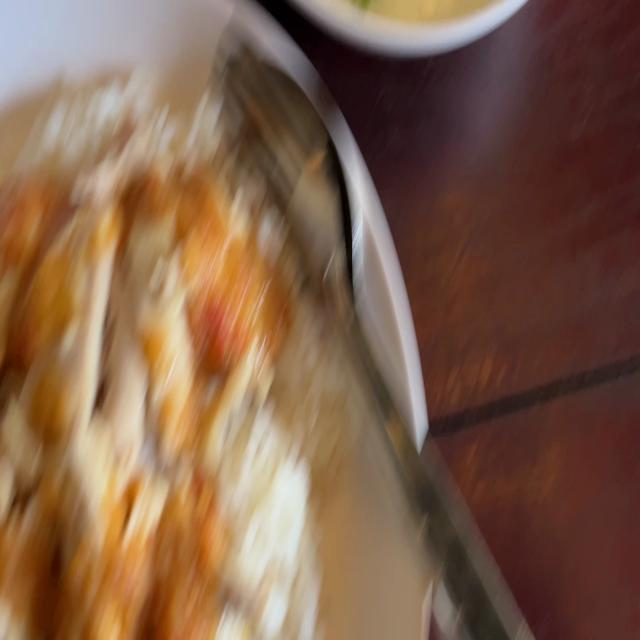boiled_chicken: (0, 160, 234, 618)
chicken_rice: (0, 53, 329, 640)
